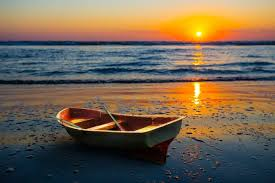boat: (55, 106, 184, 149)
